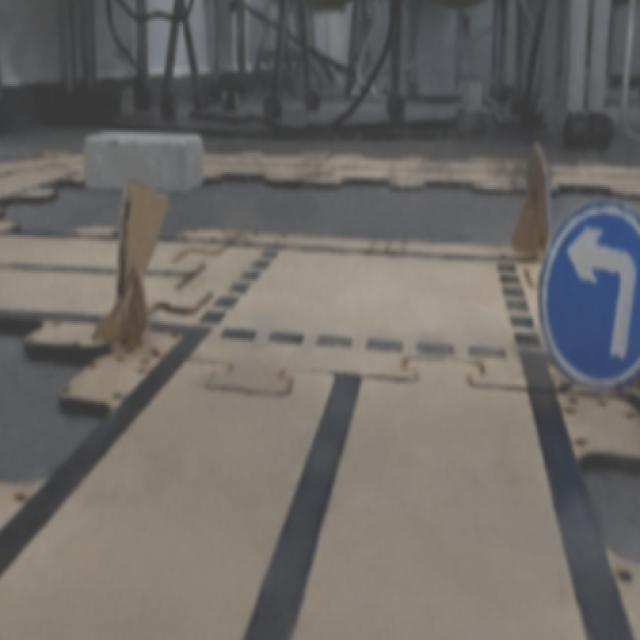LEFT: (540, 201, 639, 388)
